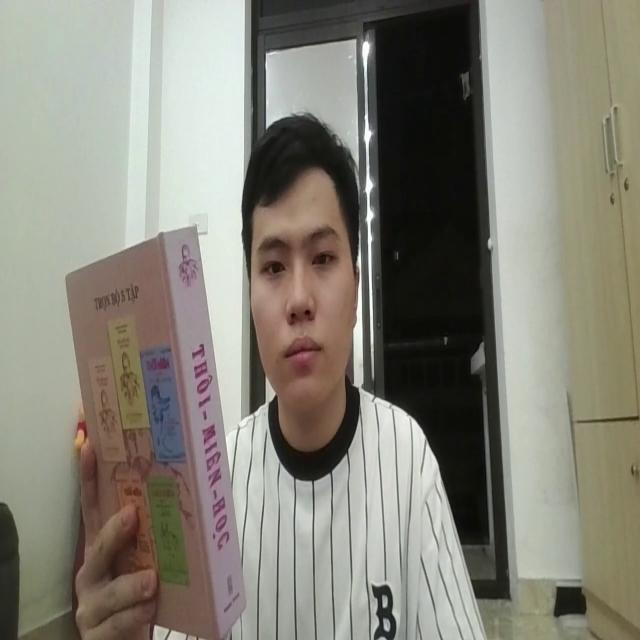book: (60, 219, 249, 640)
student: (75, 106, 482, 640)
